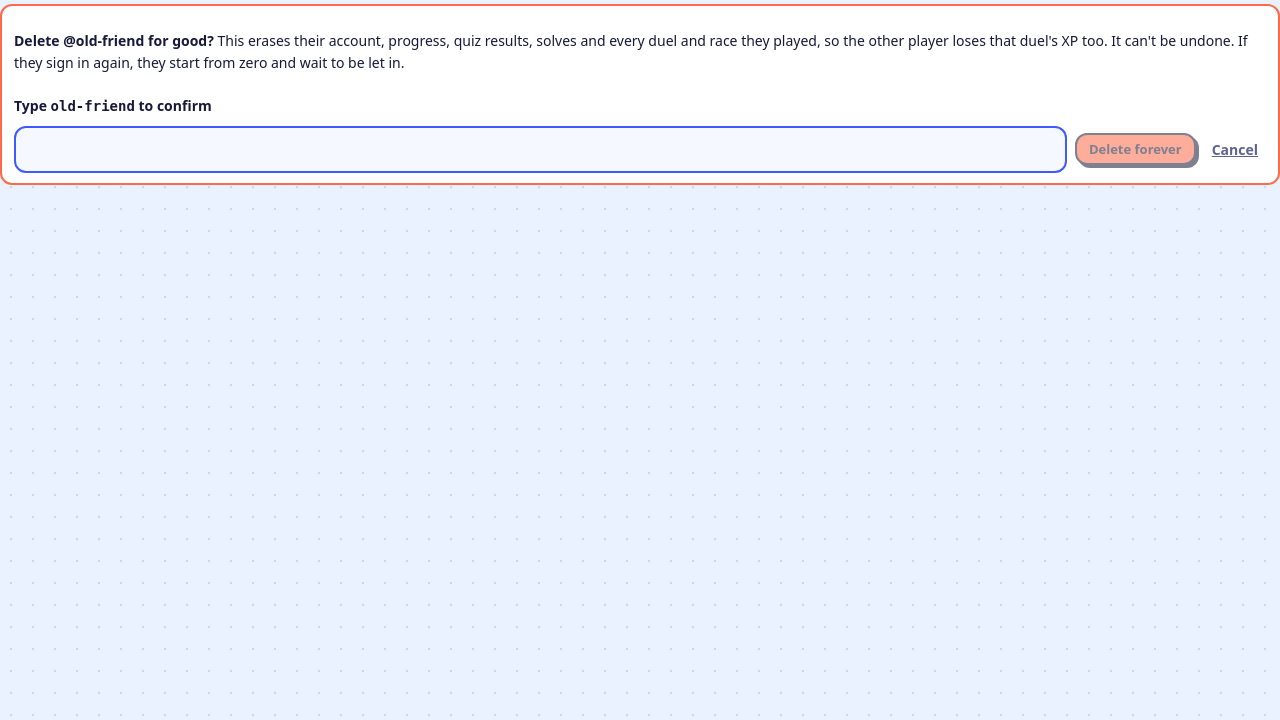
Test case: DeletePlayerConfirm › deletes only once the admin types the username (any case, extra spaces ok)
Later steps or results of the test are not shown.
Expected: the button "Delete forever" is disabled, [1075,133,1196,165]
Type "old-frien" into the field labelled "Type old-friend to confirm" at (540, 149), box [14,126,1067,173]
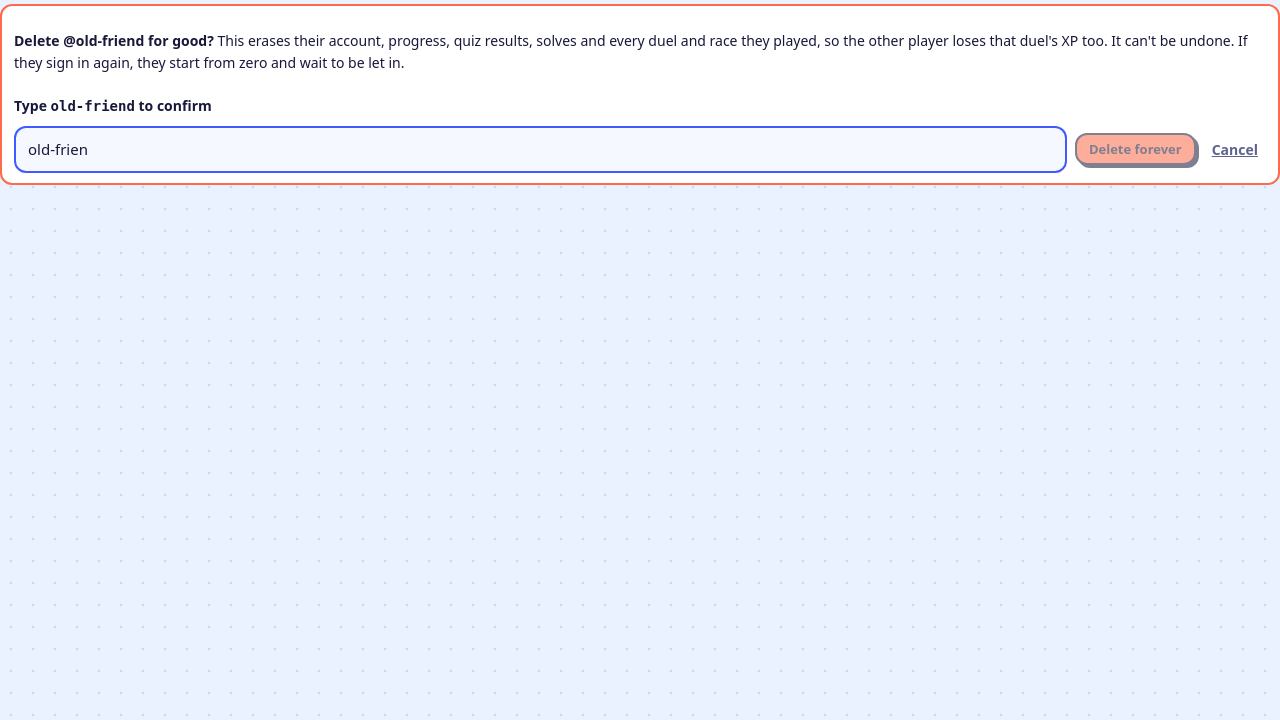
Submit the form named "Delete forever", box [0,4,1279,185]
Replace the text in the field labelled "Type old-friend to confirm" with " OLD-FRIEND " at (540, 149), box [14,126,1067,173]
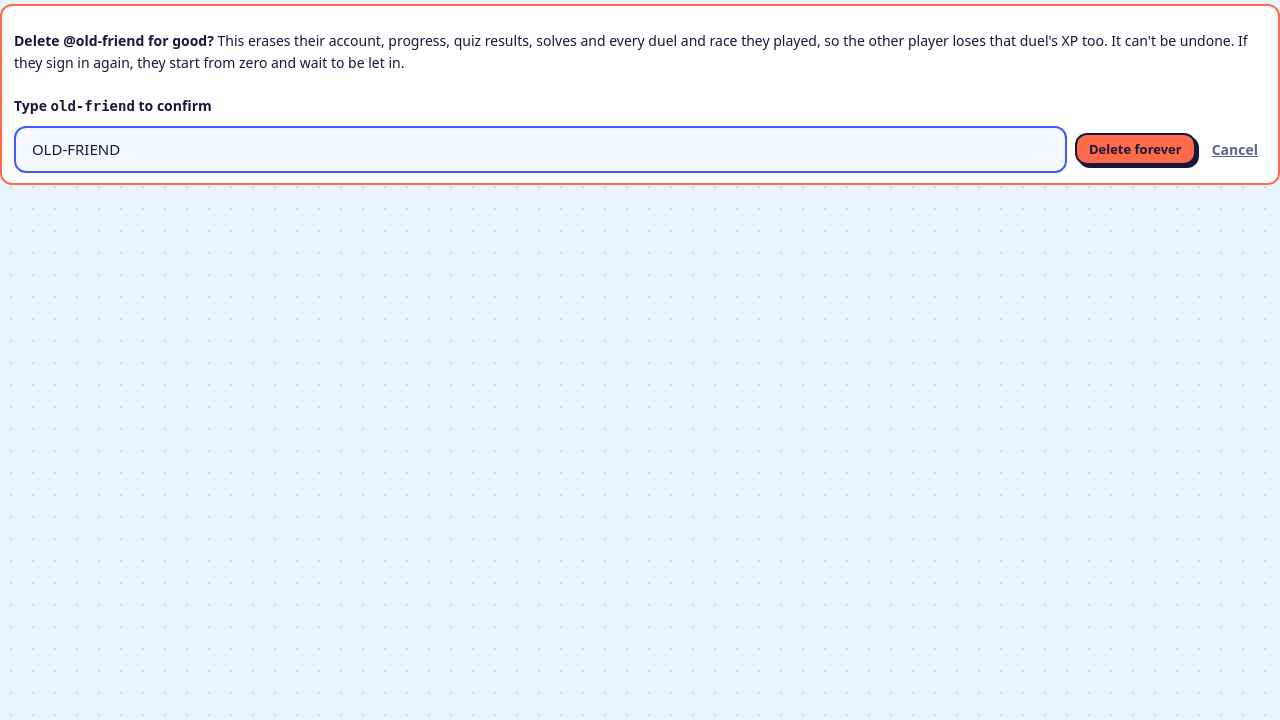
Expected: the button "Delete forever" is enabled, [1075,133,1196,165]
